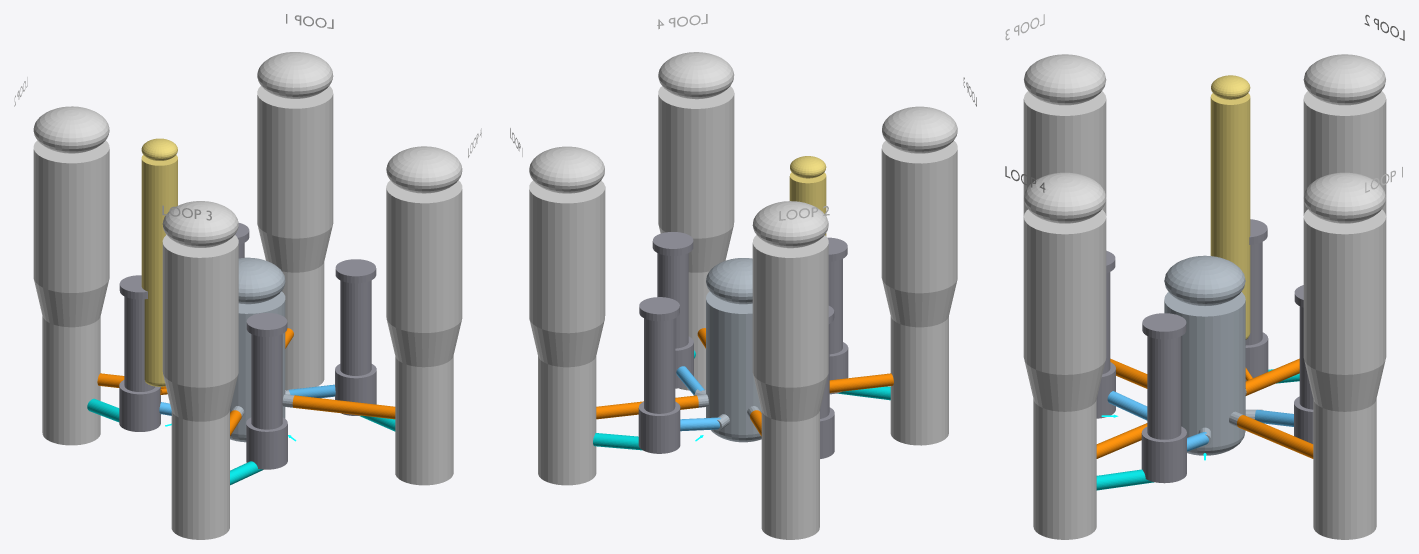
Rendered from RCS_Primary_Loop.fbx.
The picture shows the model from 3 angles, left to right: view 1: azimuth 30°, elevation 25°; view 2: azimuth 150°, elevation 25°; view 3: azimuth 270°, elevation 25°; orthographic projection. The views are drawn at different scales.
Parts seen in each view (by area): view 1: SteamGenerator_4, SteamGenerator_3, SteamGenerator_2, SteamGenerator_1, Pressurizer, RCP_3, RCP_4, ReactorVessel, RCP_2, HotLeg_4; view 2: SteamGenerator_3, SteamGenerator_1, SteamGenerator_2, SteamGenerator_4, ReactorVessel, RCP_1, RCP_4, RCP_3, Pressurizer, RCP_2, HotLeg_1, HotLeg_3 (+1 smaller); view 3: SteamGenerator_1, SteamGenerator_4, ReactorVessel, SteamGenerator_2, SteamGenerator_3, Pressurizer, RCP_4, RCP_2, RCP_1, RCP_3, HotLeg_1, HotLeg_2 (+5 smaller).
Part boxes in pixels (x1,y1,x2,y2): SteamGenerator_4: [386, 146, 462, 485]; SteamGenerator_3: [162, 201, 238, 539]; SteamGenerator_2: [33, 106, 109, 445]; SteamGenerator_1: [257, 52, 333, 390]; Pressurizer: [141, 138, 177, 386]; RCP_3: [246, 312, 287, 469]; RCP_4: [335, 259, 376, 415]; ReactorVessel: [230, 257, 294, 442]; RCP_2: [119, 275, 160, 431]; HotLeg_4: [292, 395, 395, 419]; SteamGenerator_3: [881, 106, 957, 445]; SteamGenerator_1: [529, 146, 605, 485]; SteamGenerator_2: [752, 201, 828, 539]; SteamGenerator_4: [658, 52, 734, 390]; ReactorVessel: [694, 258, 761, 442]; RCP_1: [638, 297, 680, 453]; RCP_4: [652, 232, 693, 388]; RCP_3: [827, 237, 848, 394]; Pressurizer: [789, 156, 826, 235]; RCP_2: [820, 306, 834, 458]; HotLeg_1: [596, 395, 698, 419]; HotLeg_3: [829, 373, 893, 392]; SteamGenerator_1: [1303, 172, 1386, 539]; SteamGenerator_4: [1023, 172, 1106, 539]; ReactorVessel: [1164, 255, 1262, 455]; SteamGenerator_2: [1303, 54, 1386, 216]; SteamGenerator_3: [1023, 54, 1106, 216]; Pressurizer: [1210, 75, 1250, 339]; RCP_4: [1141, 313, 1186, 483]; RCP_2: [1245, 219, 1268, 380]; RCP_1: [1294, 285, 1313, 443]; RCP_3: [1096, 250, 1115, 418]; HotLeg_1: [1237, 415, 1313, 458]; HotLeg_2: [1245, 358, 1299, 395].
Size of the model in its own units: 70.77 by 72.07 by 70.59.
